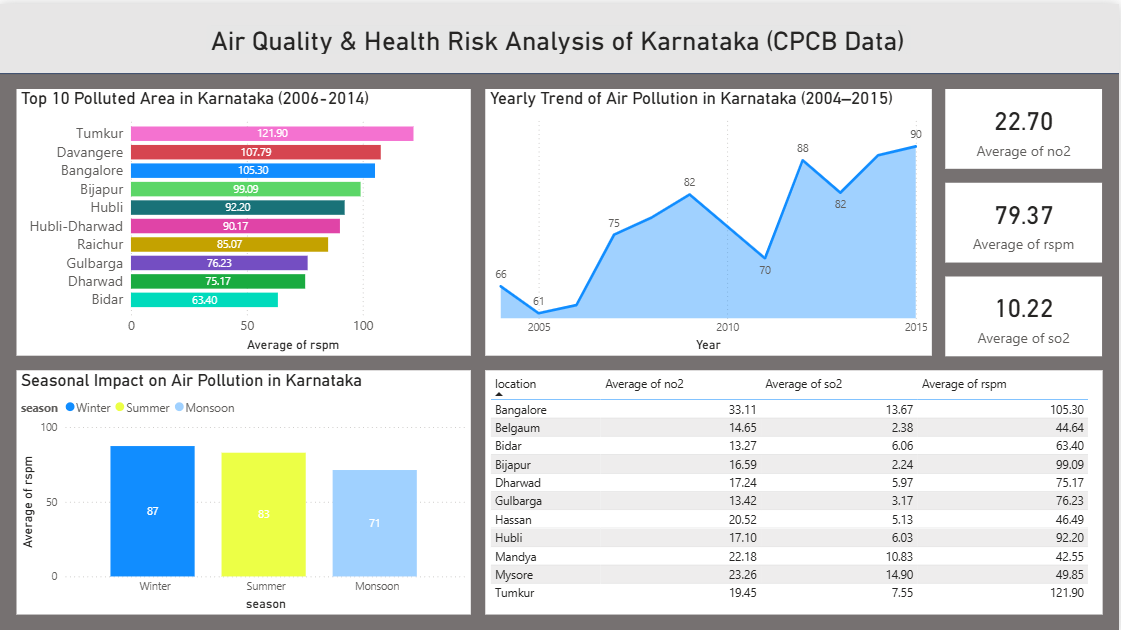

What the dashboard file says about the page in this screenshot:
{"tool":"powerbi","page":{"name":"Dashboard","canvas":[1280,720],"ordinal":1},"visuals":[{"type":"barChart","title":"Top 10 Polluted Area in Karnataka (2006-2014)","fields":{"Category":["karnataka_air_quality.location"],"Y":["Avg(karnataka_air_quality.rspm)"],"Series":["karnataka_air_quality.location"]},"box":[20,96.9,518.8,305],"z":0},{"type":"card","fields":{"Values":["Avg(karnataka_air_quality.rspm)"]},"box":[1081.9,203.8,179.6,91.2],"z":1000},{"type":"card","fields":{"Values":["Avg(karnataka_air_quality.no2)"]},"box":[1081.9,96.9,179.6,91.2],"z":2000},{"type":"card","fields":{"Values":["Avg(karnataka_air_quality.so2)"]},"box":[1081.9,310.7,179.6,91.2],"z":3000},{"type":"columnChart","title":"Seasonal Impact on Air Pollution in Karnataka","fields":{"Category":["karnataka_air_quality.season"],"Y":["Avg(karnataka_air_quality.rspm)"],"Series":["karnataka_air_quality.season"]},"box":[20,419.1,518.8,279.4],"z":4000},{"type":"areaChart","title":"Yearly Trend of Air Pollution in Karnataka (2004–2015)","fields":{"Category":["karnataka_air_quality.date.Variation.Date Hierarchy.Year","karnataka_air_quality.date.Variation.Date Hierarchy.Quarter","karnataka_air_quality.date.Variation.Date Hierarchy.Month","karnataka_air_quality.date.Variation.Date Hierarchy.Day"],"Y":["Avg(karnataka_air_quality.rspm)"]},"box":[555.9,96.9,510.3,305],"z":5000},{"type":"textbox","title":"Air Quality & Health Risk Analysis of Karnataka (CPCB Data)","box":[236.6,24.2,805.3,32.8],"z":7000},{"type":"tableEx","fields":{"Values":["karnataka_air_quality.location","Avg(karnataka_air_quality.no2)","Avg(karnataka_air_quality.so2)","Avg(karnataka_air_quality.rspm)"]},"box":[555.9,419.1,705.6,279.4],"z":8000}]}

Visuals, with their boxes in screenshot pixels (x1, y1, x2, y2), scaled from the page's 1280x720 canvas onto the 1121x630 screenshot:
"Top 10 Polluted Area in Karnataka (2006-2014)" barChart: [left=18, top=85, right=472, bottom=352]
card - Avg(karnataka_air_quality.rspm): [left=948, top=178, right=1105, bottom=258]
card - Avg(karnataka_air_quality.no2): [left=948, top=85, right=1105, bottom=165]
card - Avg(karnataka_air_quality.so2): [left=948, top=272, right=1105, bottom=352]
"Seasonal Impact on Air Pollution in Karnataka" columnChart: [left=18, top=367, right=472, bottom=611]
"Yearly Trend of Air Pollution in Karnataka (2004–2015)" areaChart: [left=487, top=85, right=934, bottom=352]
"Air Quality & Health Risk Analysis of Karnataka (CPCB Data)" textbox: [left=207, top=21, right=912, bottom=50]
tableEx - karnataka_air_quality.location x Avg(karnataka_air_quality.no2): [left=487, top=367, right=1105, bottom=611]
